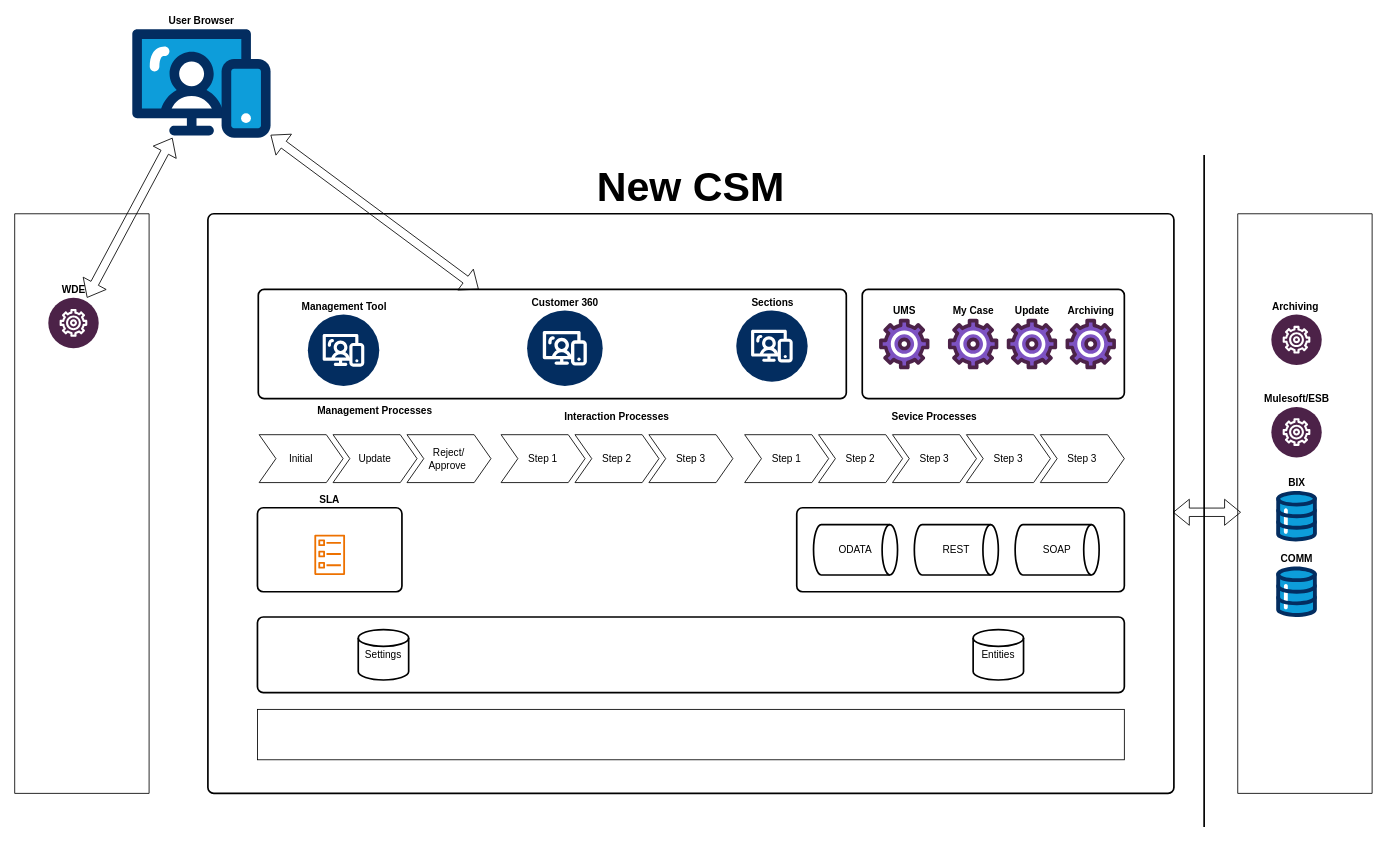
The diagram is 1387 pixels wide and 842 high, and some of its shapes have lost their labels. Each missing label, with the box of its shape:
Configuable SLA: (314, 534, 345, 575)
Connectors: (795, 507, 1125, 592)
Data Model: (256, 616, 1125, 693)
Front End: (257, 288, 847, 399)
Genessys: (14, 213, 149, 793)
Salesforce Platform: (257, 709, 1124, 760)
